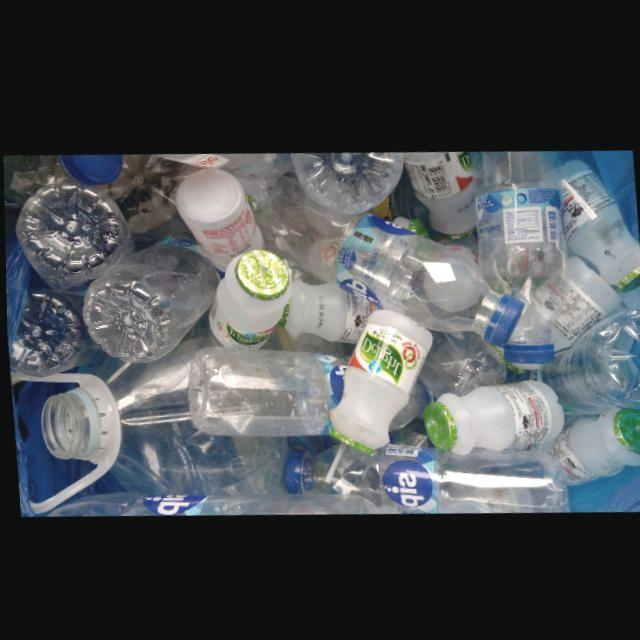plastic_bottle: (10, 335, 271, 514), (256, 173, 524, 343), (469, 146, 567, 360), (282, 441, 566, 511), (81, 231, 224, 363), (327, 307, 432, 454), (187, 346, 351, 435), (15, 185, 134, 295), (527, 304, 640, 412), (422, 376, 563, 452), (561, 156, 640, 286), (175, 167, 264, 271), (8, 286, 104, 376), (208, 248, 290, 347), (547, 404, 640, 482), (290, 149, 403, 209), (276, 277, 380, 341), (3, 154, 122, 209), (403, 148, 476, 236), (417, 325, 505, 396), (153, 151, 294, 180)
